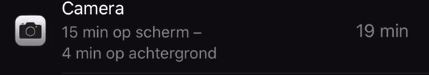name: (56, 1, 132, 20)
time: (61, 42, 106, 69), (61, 21, 112, 39)
